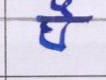ai_matra: (51, 0, 76, 17)
